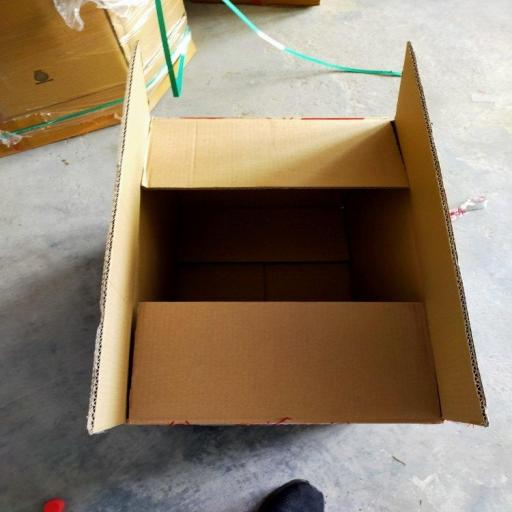cardboard: (84, 40, 488, 434)
